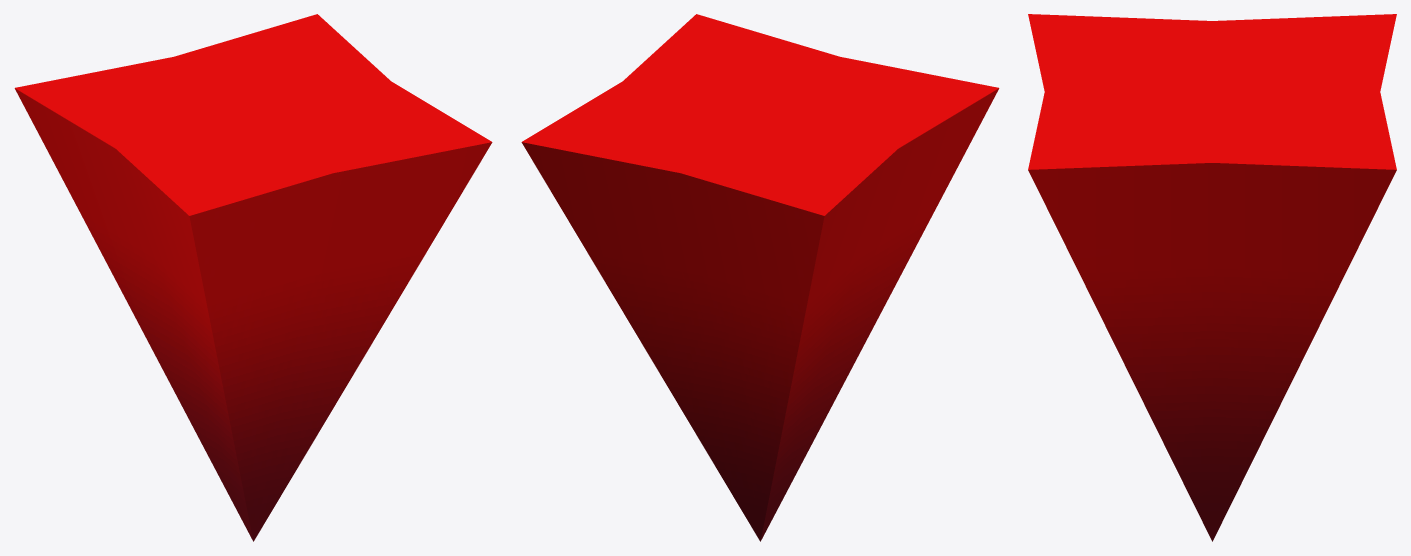
File: marker.dae
3 renders of one model, left to right at view 1: azimuth 30°, elevation 25°; view 2: azimuth 150°, elevation 25°; view 3: azimuth 270°, elevation 25°, orthographic. The views are drawn at different scales.
Visible parts, largest first — view 1: Marker; view 2: Marker; view 3: Marker.
Part boxes in pixels (x1,y1,x2,y2): Marker: (14,14,492,541); Marker: (521,14,999,541); Marker: (1028,14,1396,541).
Size of the model in its own units: 0.7633 by 0.7633 by 1.03.
Materials: 1 (1 with a texture image).
